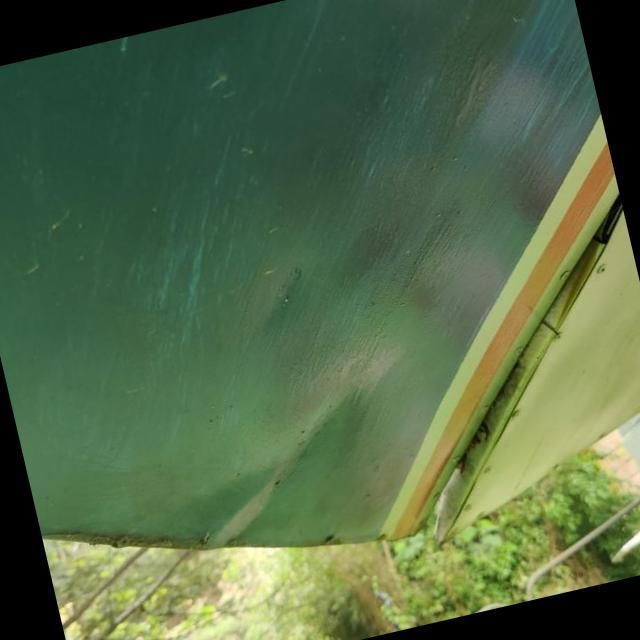Dent: (136, 332, 450, 586), (214, 225, 351, 365)
